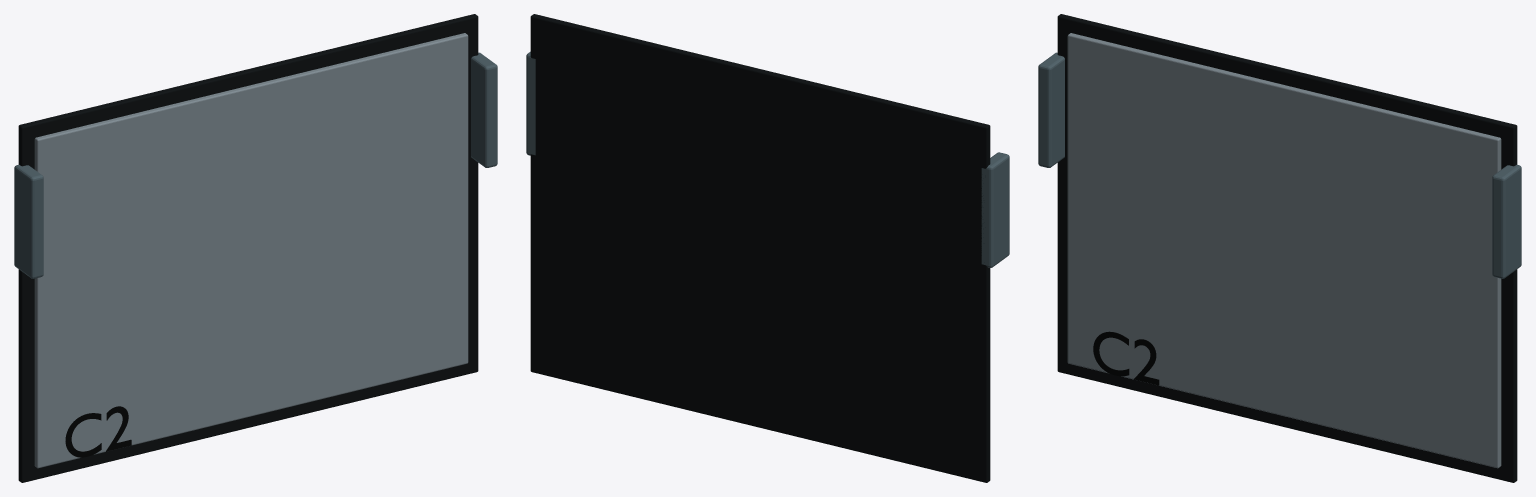
Rendered from slot_c2.obj.
3 renders of one model, left to right at view 1: azimuth 30°, elevation 25°; view 2: azimuth 150°, elevation 25°; view 3: azimuth 330°, elevation 25°, orthographic.
Visible parts, largest first — view 1: flex__slot_c2__insert, flex__slot_c2__recess, flex__slot_c2__locator, flex__slot_c2__locator.001, flex__slot_c2__id; view 2: flex__slot_c2__recess, flex__slot_c2__locator, flex__slot_c2__locator.001; view 3: flex__slot_c2__insert, flex__slot_c2__recess, flex__slot_c2__locator.001, flex__slot_c2__locator, flex__slot_c2__id.
Boxes of the visible parts, left/top/right/bottom form: flex__slot_c2__insert: left=34, top=33, right=468, bottom=468; flex__slot_c2__recess: left=18, top=14, right=478, bottom=482; flex__slot_c2__locator: left=14, top=164, right=43, bottom=278; flex__slot_c2__locator.001: left=471, top=52, right=497, bottom=167; flex__slot_c2__id: left=65, top=406, right=131, bottom=457; flex__slot_c2__recess: left=530, top=14, right=990, bottom=482; flex__slot_c2__locator: left=981, top=152, right=1009, bottom=267; flex__slot_c2__locator.001: left=526, top=51, right=535, bottom=155; flex__slot_c2__insert: left=1067, top=33, right=1501, bottom=468; flex__slot_c2__recess: left=1057, top=14, right=1517, bottom=482; flex__slot_c2__locator.001: left=1492, top=164, right=1521, bottom=278; flex__slot_c2__locator: left=1038, top=52, right=1064, bottom=167; flex__slot_c2__id: left=1093, top=331, right=1159, bottom=385.
Bounding box in the file's own units: 0.144 × 0.105 × 0.01.
